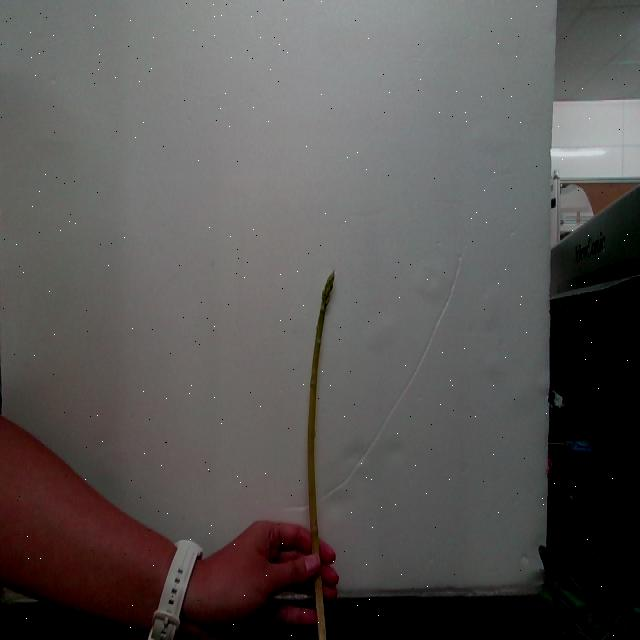aspargus: (306, 274, 336, 557)
